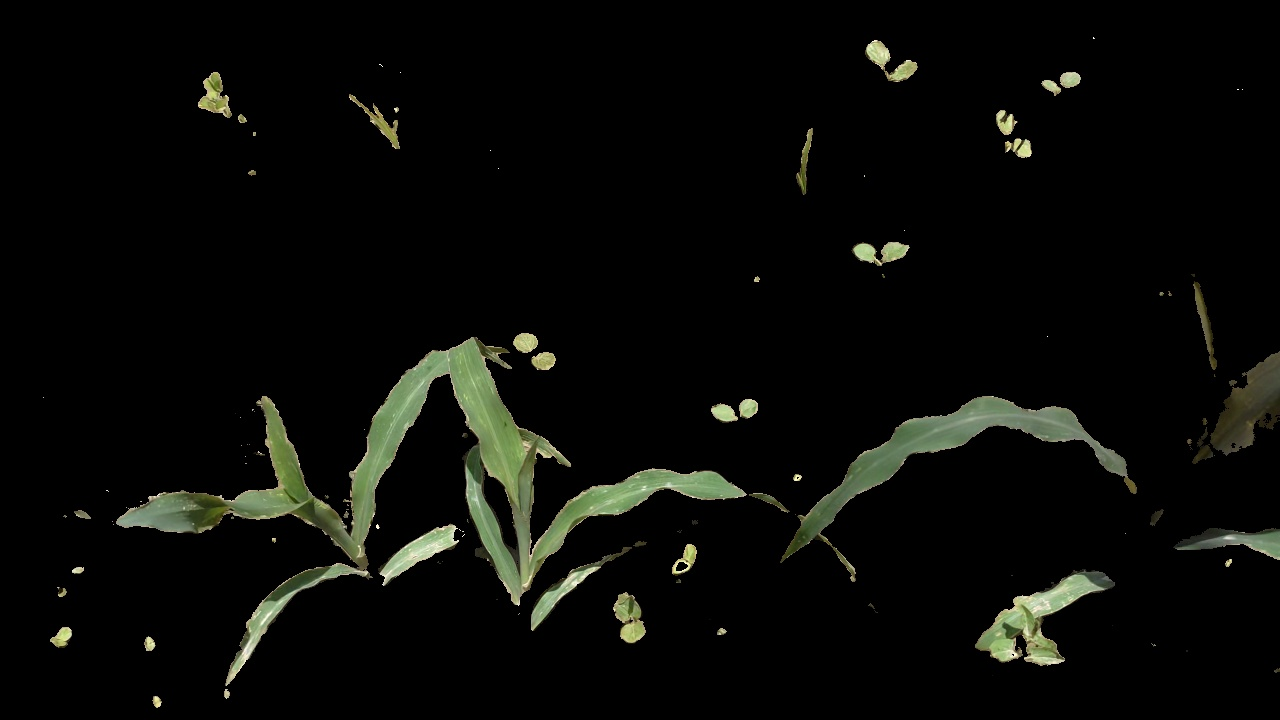crop: (775, 255, 1280, 662), (433, 333, 798, 634), (105, 358, 440, 648)
weed: (322, 69, 422, 161), (205, 63, 272, 168), (991, 611, 1073, 682), (782, 104, 828, 216), (498, 321, 562, 378), (856, 36, 922, 91), (846, 234, 930, 269), (608, 582, 649, 652), (996, 105, 1035, 172), (712, 390, 767, 434), (1040, 69, 1088, 104), (672, 548, 699, 579), (44, 623, 73, 645)
